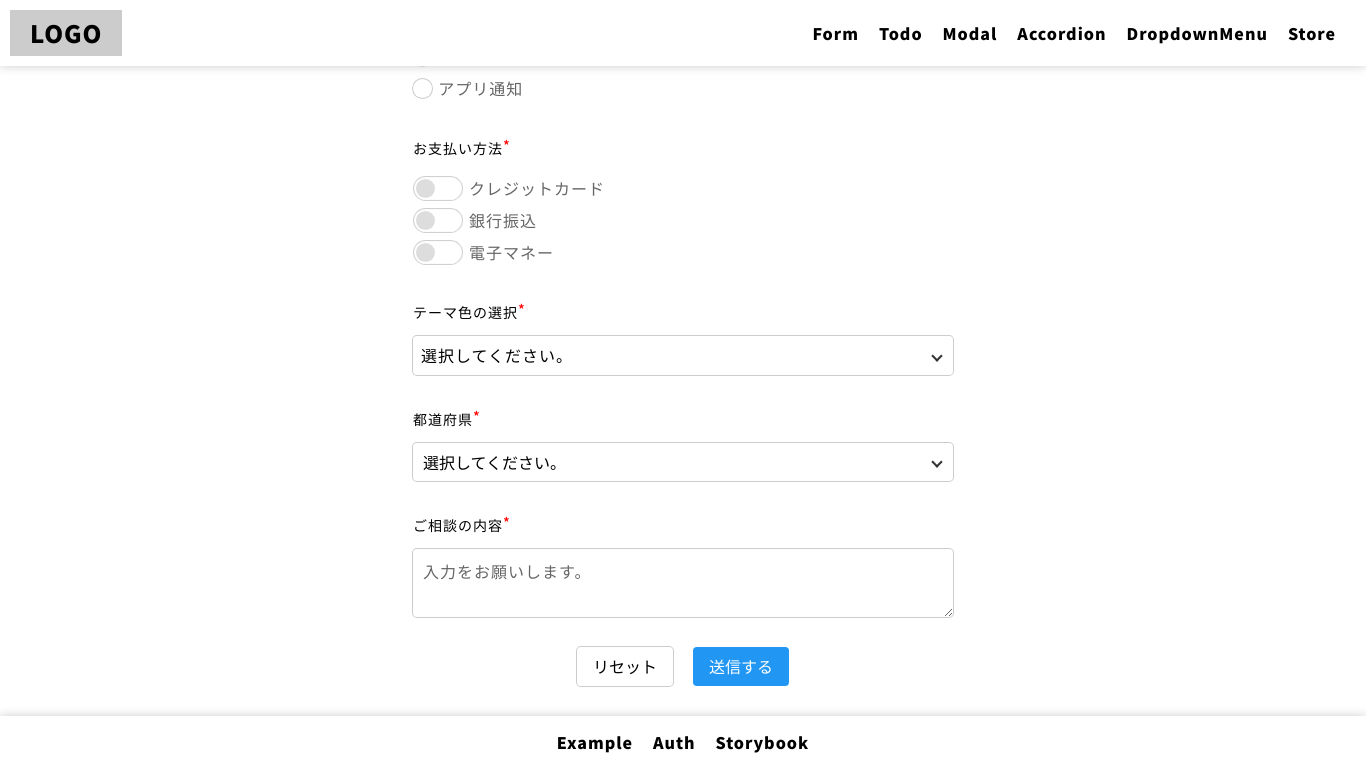
FormExample page › renders and validates required fields
(page scrolled)
Click the button "送信する" at (741, 666), box 693,647 -> 789,686
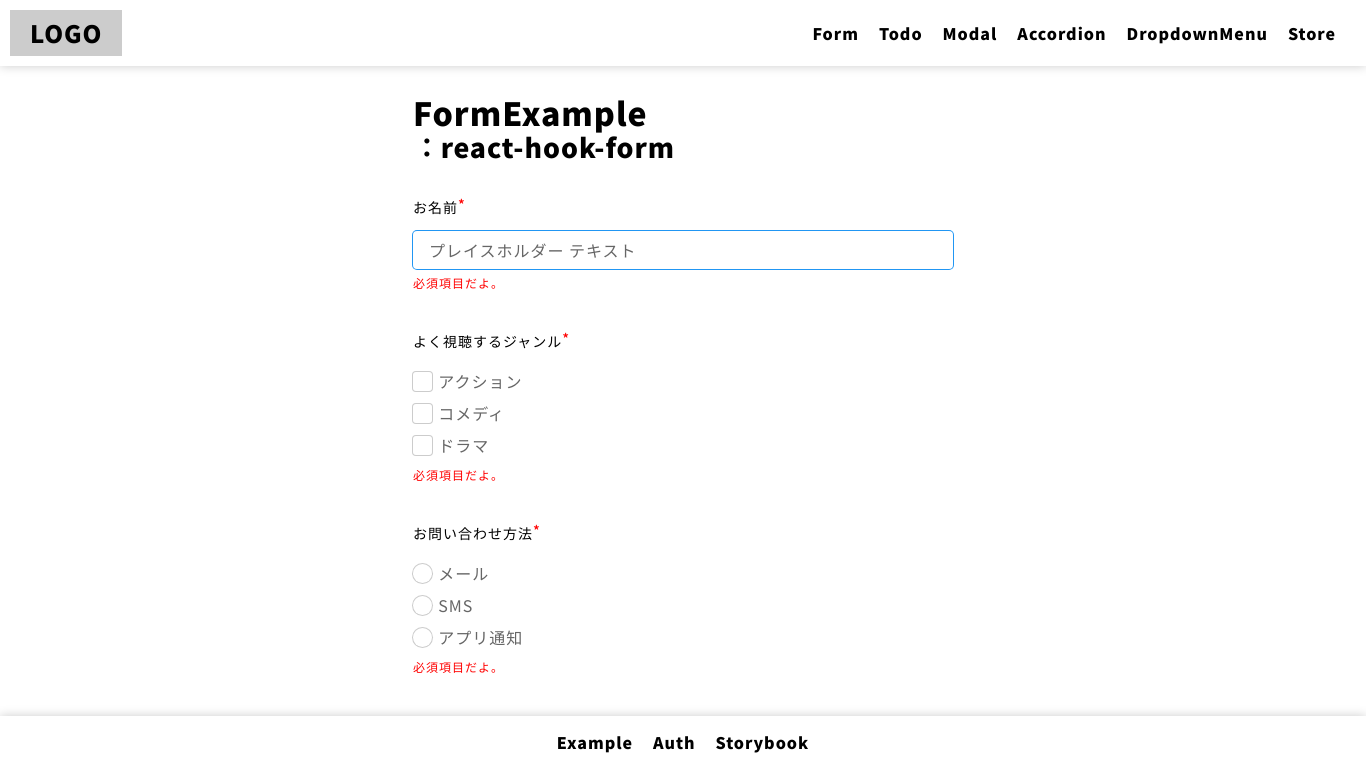
Result: the text "必須項目だよ。" below "お名前" is shown at 413,274 -> 504,291
